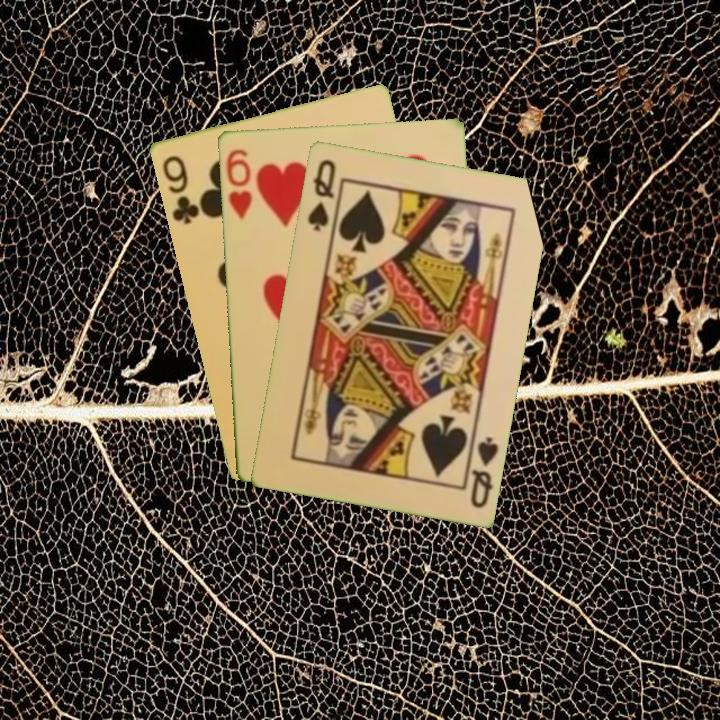6h: (222, 145, 254, 222)
9c: (158, 151, 202, 227)
Qs: (460, 429, 501, 511), (303, 155, 338, 234)
